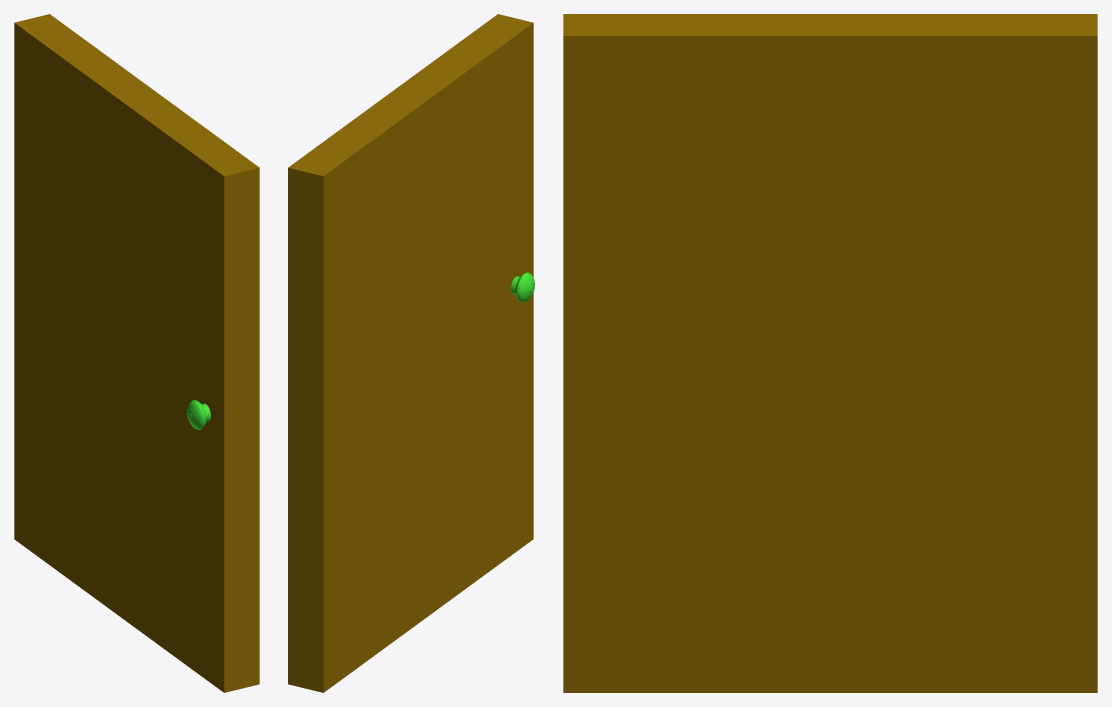
The model's file is vanhaovijam.fbx.
3 views of the same model, side by side, from view 1: azimuth 30°, elevation 25°; view 2: azimuth 150°, elevation 25°; view 3: azimuth 270°, elevation 25° (orthographic). The views are drawn at different scales.
Visible parts, largest first — view 1: Cylinder; view 2: Cylinder; view 3: Cylinder.
Boxes of the visible parts, left/top/right/bottom form: Cylinder: left=14, top=14, right=259, bottom=692; Cylinder: left=288, top=14, right=534, bottom=692; Cylinder: left=563, top=14, right=1097, bottom=692.
Size of the model in its own units: 19.96 by 190 by 140.
